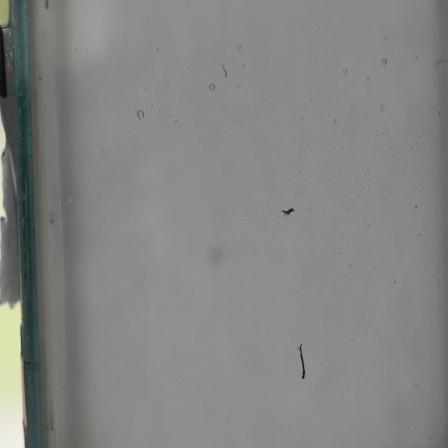Jentik-Nyamuk: (295, 337, 309, 382), (280, 202, 298, 219)
